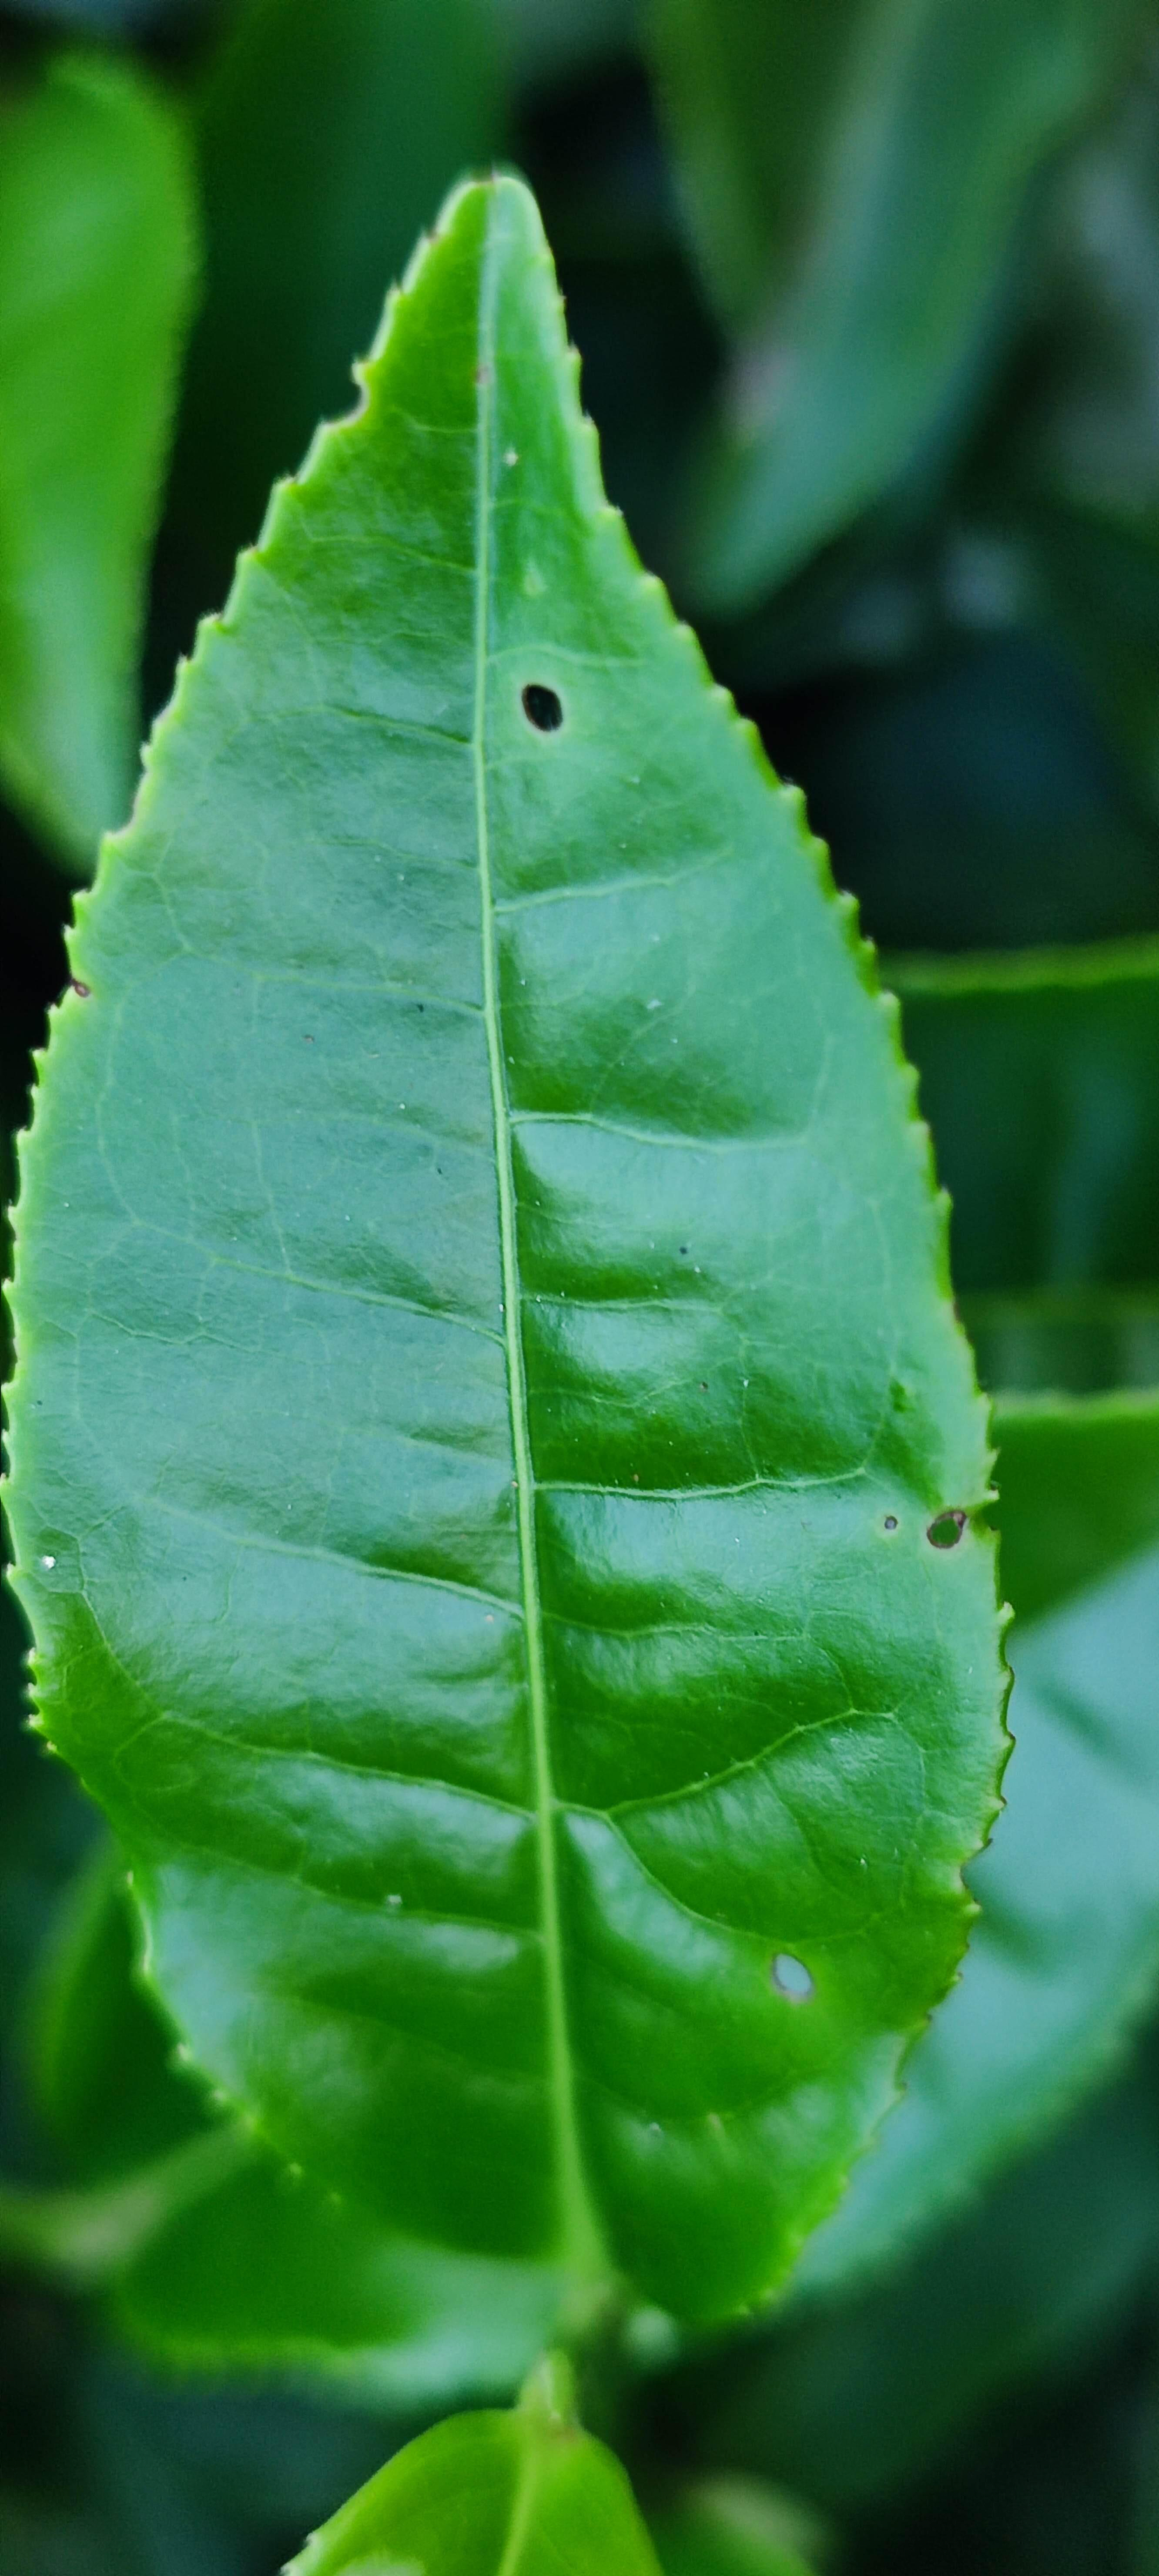chihuo_high: (5, 171, 1018, 2321)
